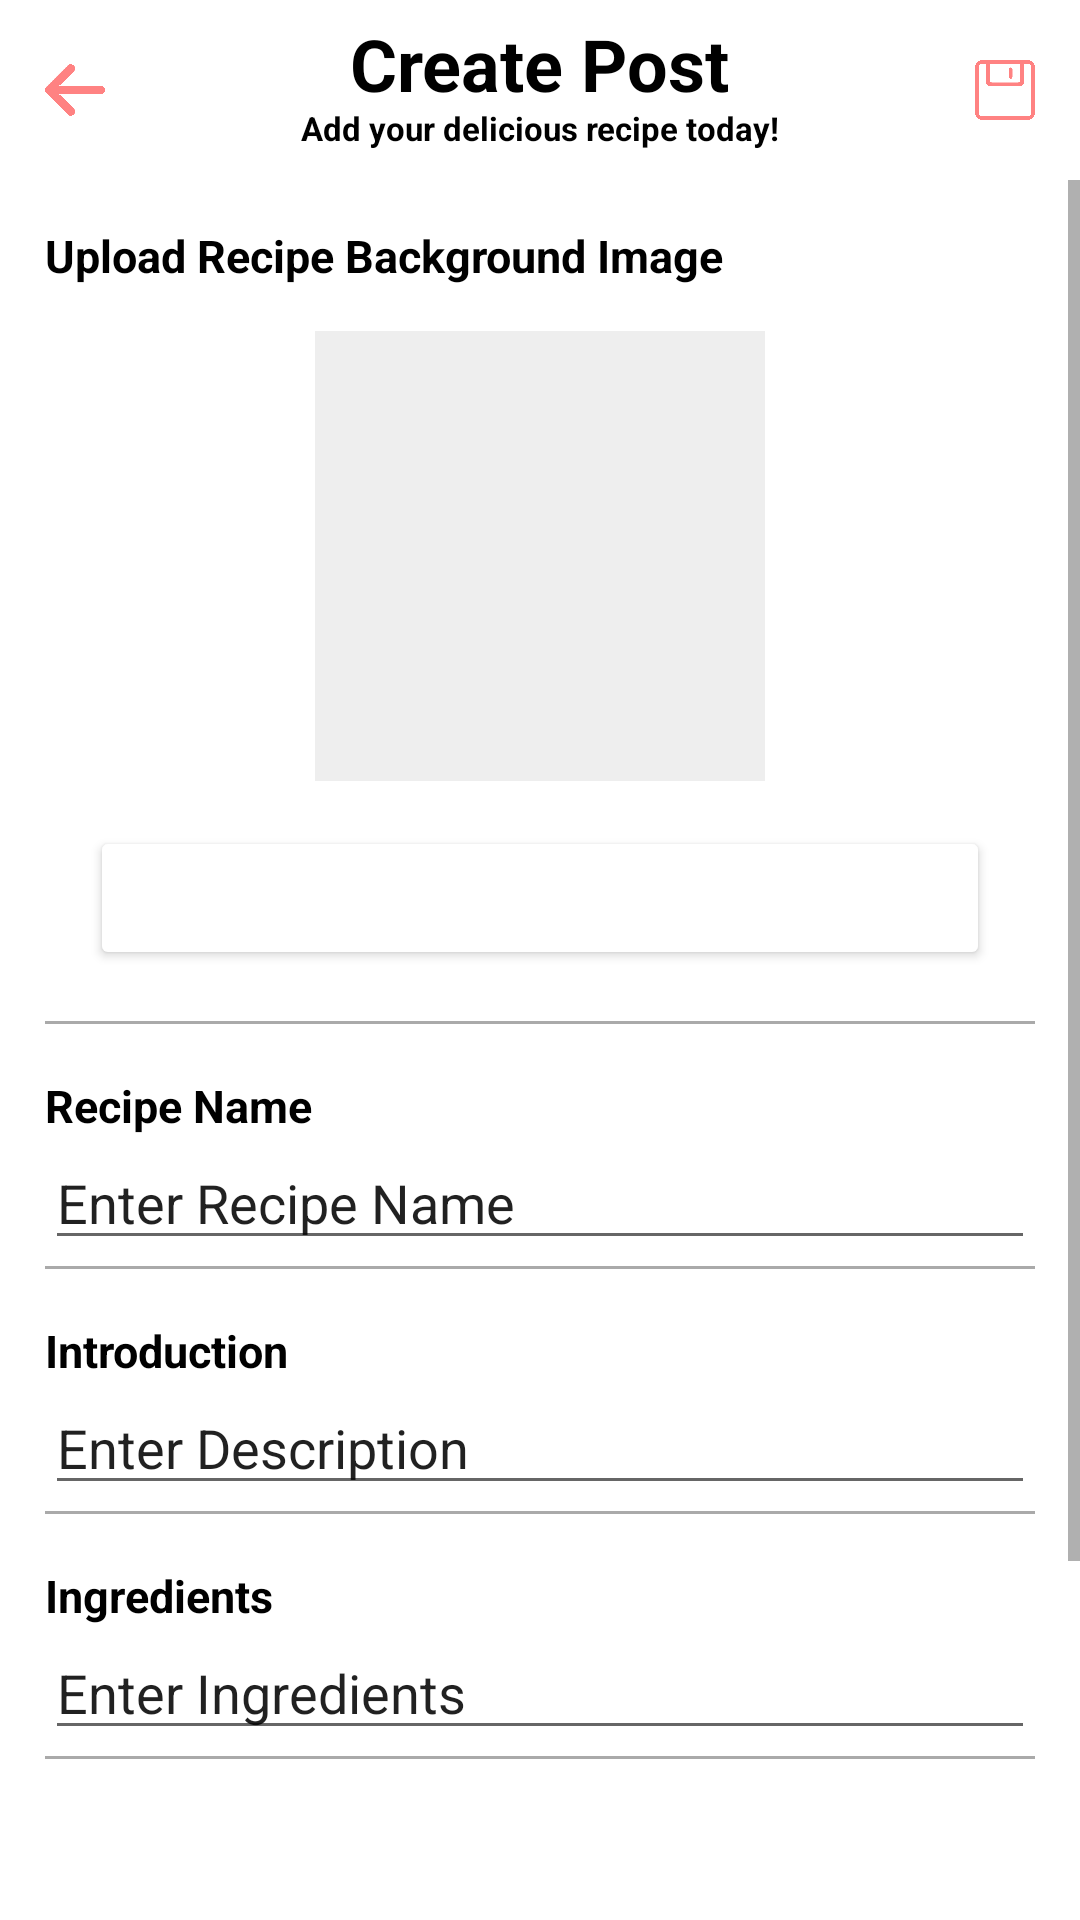

Point at icon controls on the screen. Image size 1080 × 1920, points as [x,y].
back arrow: [75,90]
save: [1005,90]
